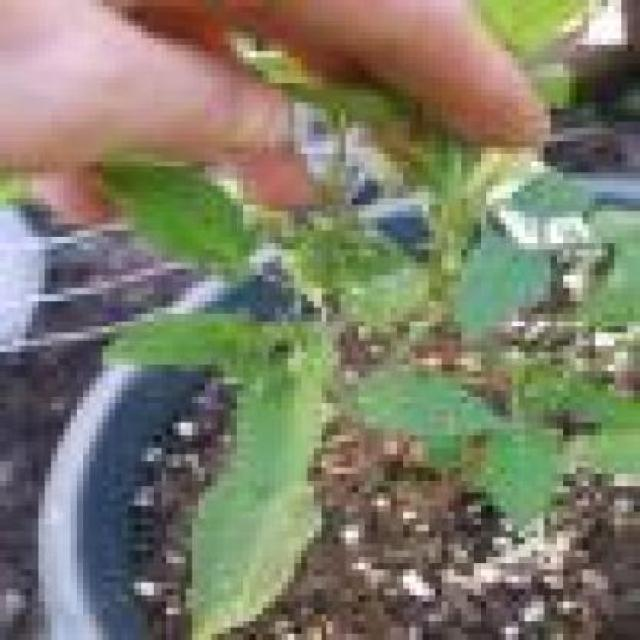Tomato leaf bacterial spot: (167, 449, 360, 635), (84, 149, 264, 283), (340, 366, 514, 455), (78, 289, 232, 386), (469, 418, 576, 546), (437, 238, 571, 339), (238, 366, 321, 513), (532, 372, 635, 436)
